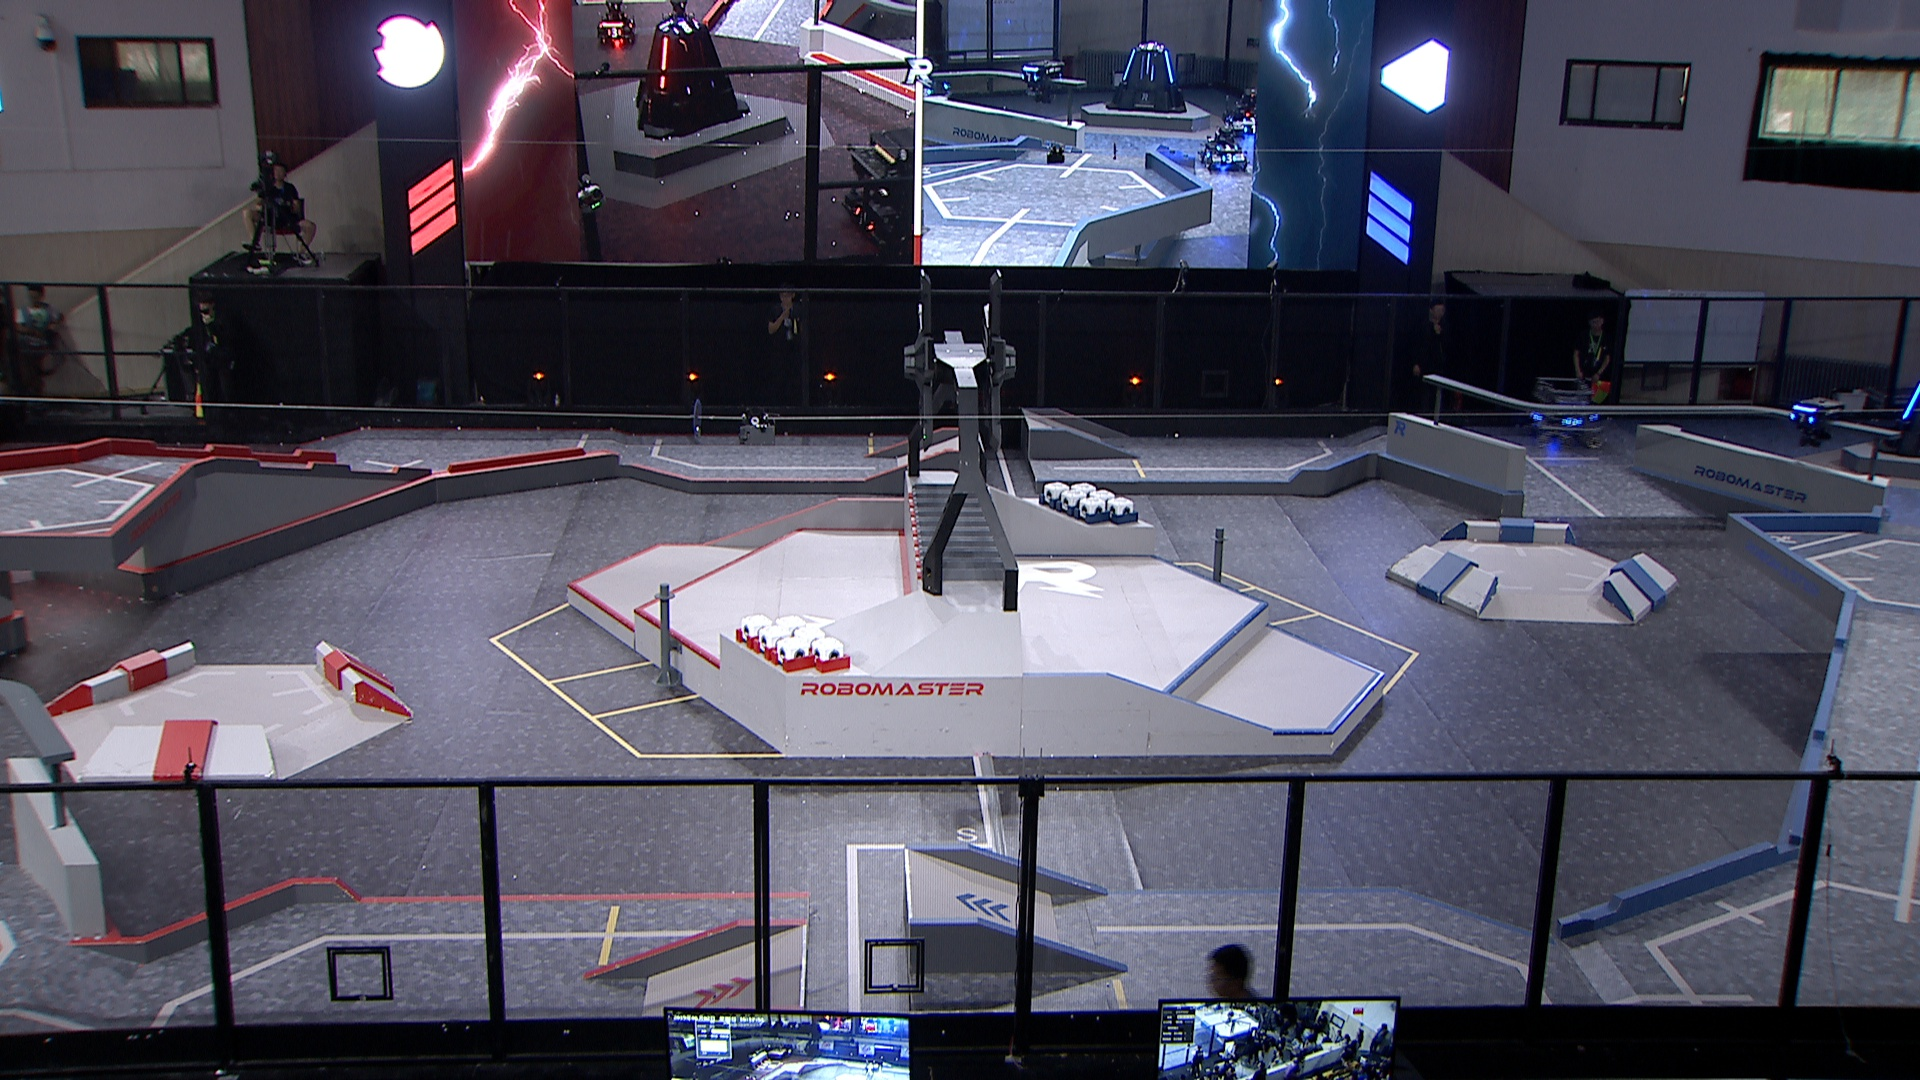armor: (1902, 384, 1920, 419), (1788, 410, 1815, 425), (1557, 415, 1586, 429)
base: (1875, 365, 1920, 460)
car: (1524, 376, 1607, 454)
ignore: (632, 12, 750, 142), (839, 128, 915, 256), (1102, 40, 1189, 113), (1196, 127, 1251, 171), (1017, 57, 1068, 104), (1221, 86, 1258, 133)
watcher: (1787, 398, 1836, 448)
